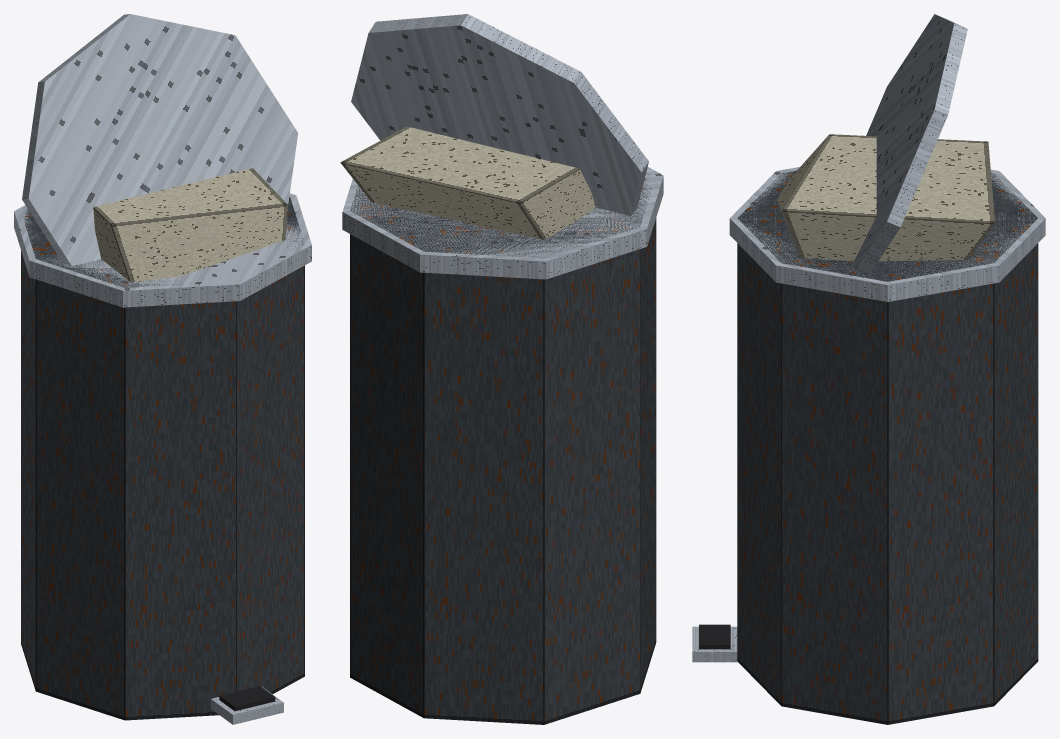
Rendered from trash_bin.glb.
The picture shows the model from 3 angles, left to right: view 1: azimuth 30°, elevation 25°; view 2: azimuth 150°, elevation 25°; view 3: azimuth 270°, elevation 25°; orthographic projection. The views are drawn at different scales.
Visible parts, largest first — view 1: trash_bin; view 2: trash_bin; view 3: trash_bin.
Part boxes in pixels (x1,y1,x2,y2): trash_bin: [14, 14, 311, 724]; trash_bin: [340, 14, 663, 724]; trash_bin: [692, 14, 1045, 724].
Bounding box in the file's own units: 0.424 × 0.936 × 0.47.
4 materials, 4 textured.
